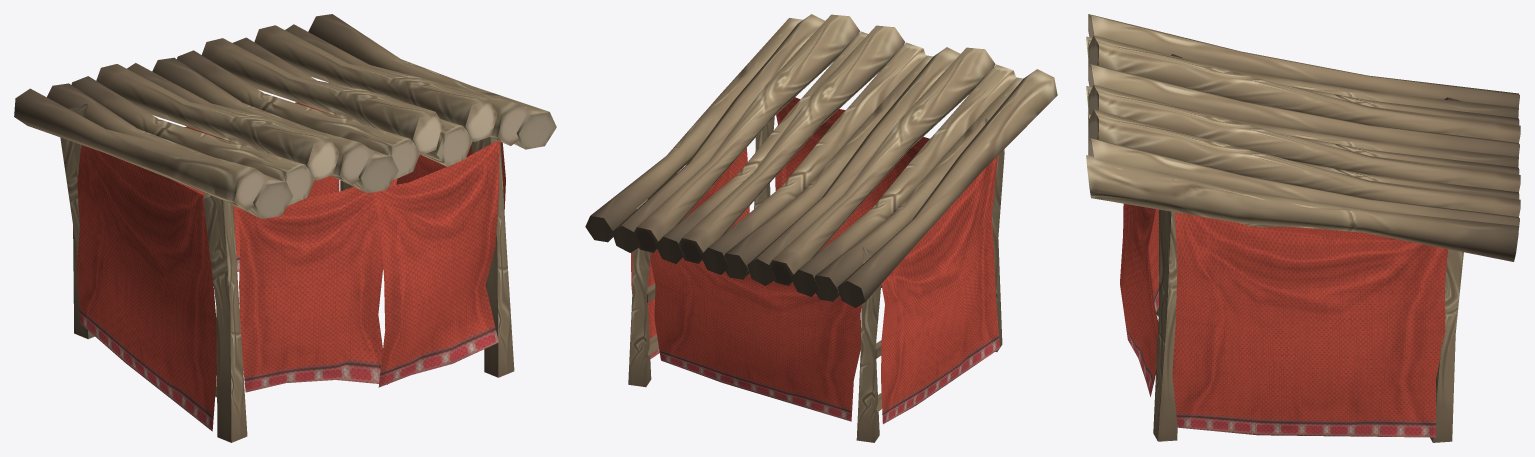
File: Egypt_Village_Buildings_11.FBX
3 renders of one model, left to right at view 1: azimuth 30°, elevation 25°; view 2: azimuth 150°, elevation 25°; view 3: azimuth 270°, elevation 25°, orthographic. The views are drawn at different scales.
Visible parts, largest first — view 1: Egypt_Village_Buildings_11; view 2: Egypt_Village_Buildings_11; view 3: Egypt_Village_Buildings_11.
Part boxes in pixels (x1,y1,x2,y2): Egypt_Village_Buildings_11: (14,14,556,442); Egypt_Village_Buildings_11: (585,14,1057,442); Egypt_Village_Buildings_11: (1086,14,1520,442).
Size of the model in its own units: 321 by 290 by 382.
